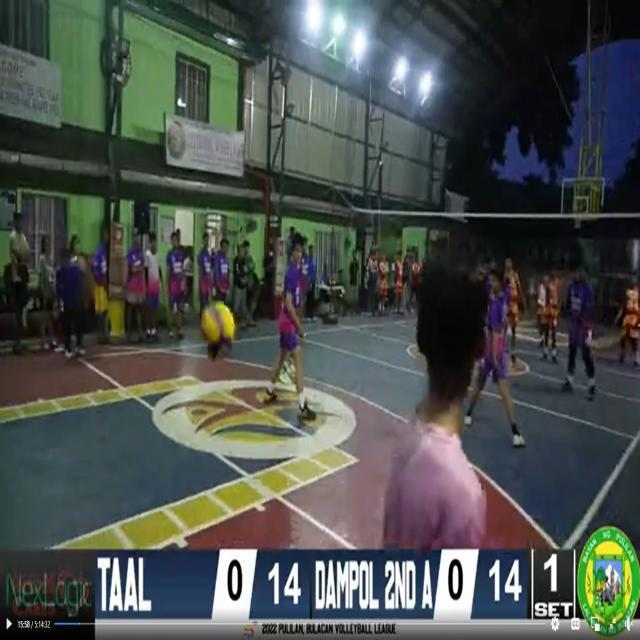volleyball: (200, 300, 236, 360)
